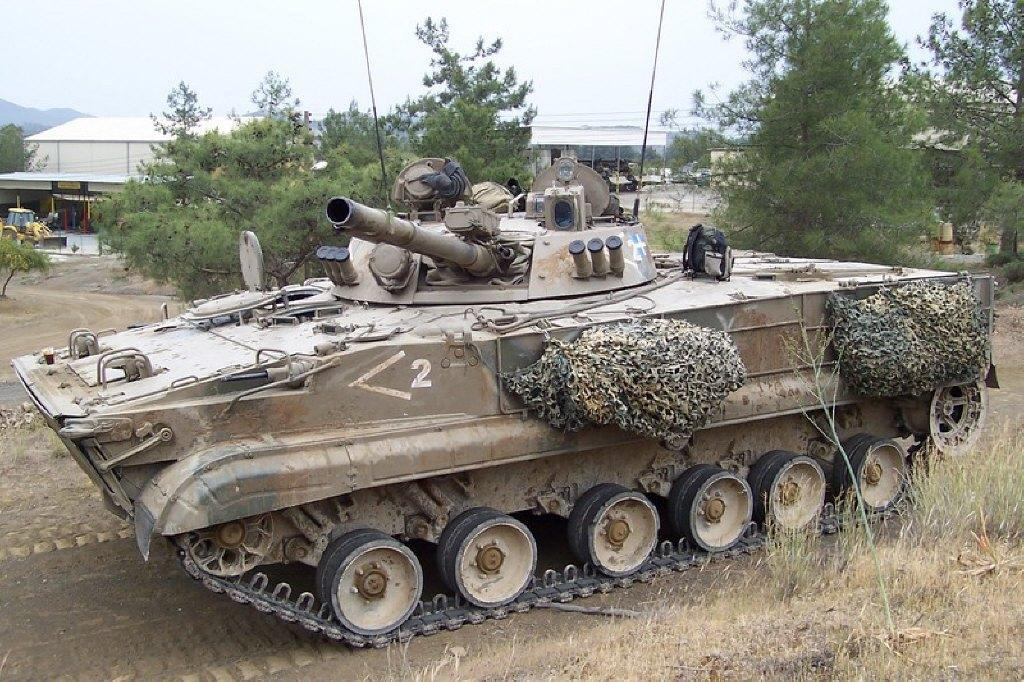MIL_IFV: (9, 151, 1003, 650)
